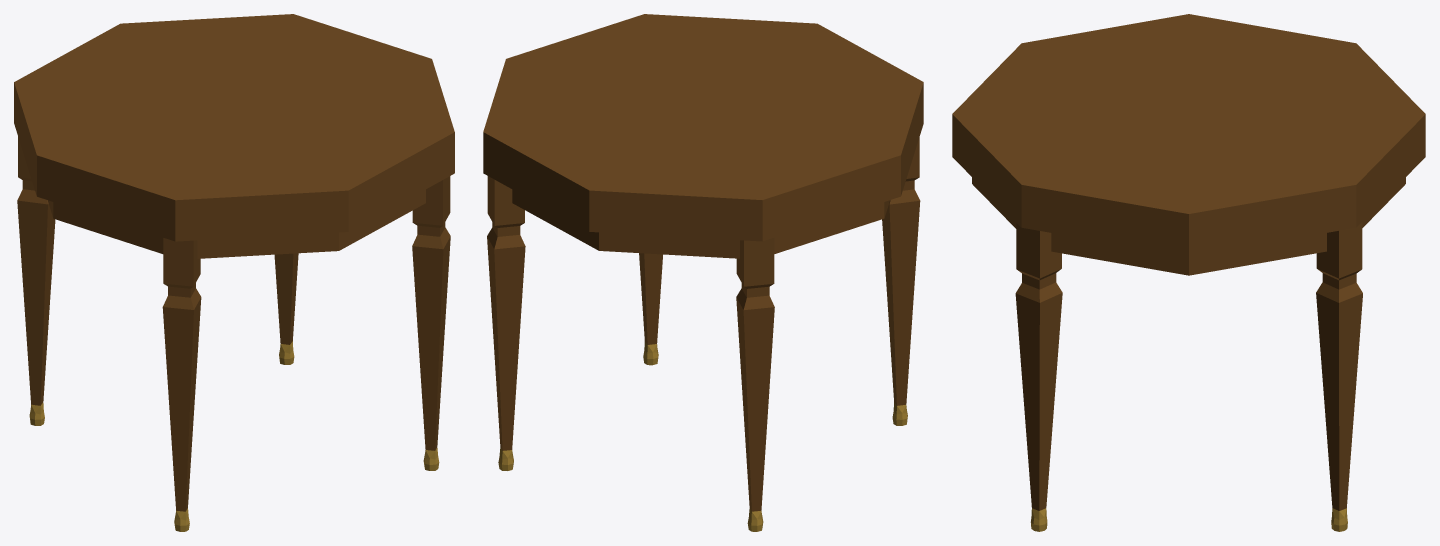
The model's file is tavolino.fbx.
3 views of the same model, side by side, from view 1: azimuth 30°, elevation 25°; view 2: azimuth 150°, elevation 25°; view 3: azimuth 270°, elevation 25° (orthographic). The views are drawn at different scales.
Parts seen in each view (by area): view 1: TAVOLO; view 2: TAVOLO; view 3: TAVOLO.
Part boxes in pixels (<box>): TAVOLO: <box>14,14,454,531</box>; TAVOLO: <box>483,14,923,531</box>; TAVOLO: <box>952,14,1425,531</box>.
Size of the model in its own units: 300 by 246 by 300.
